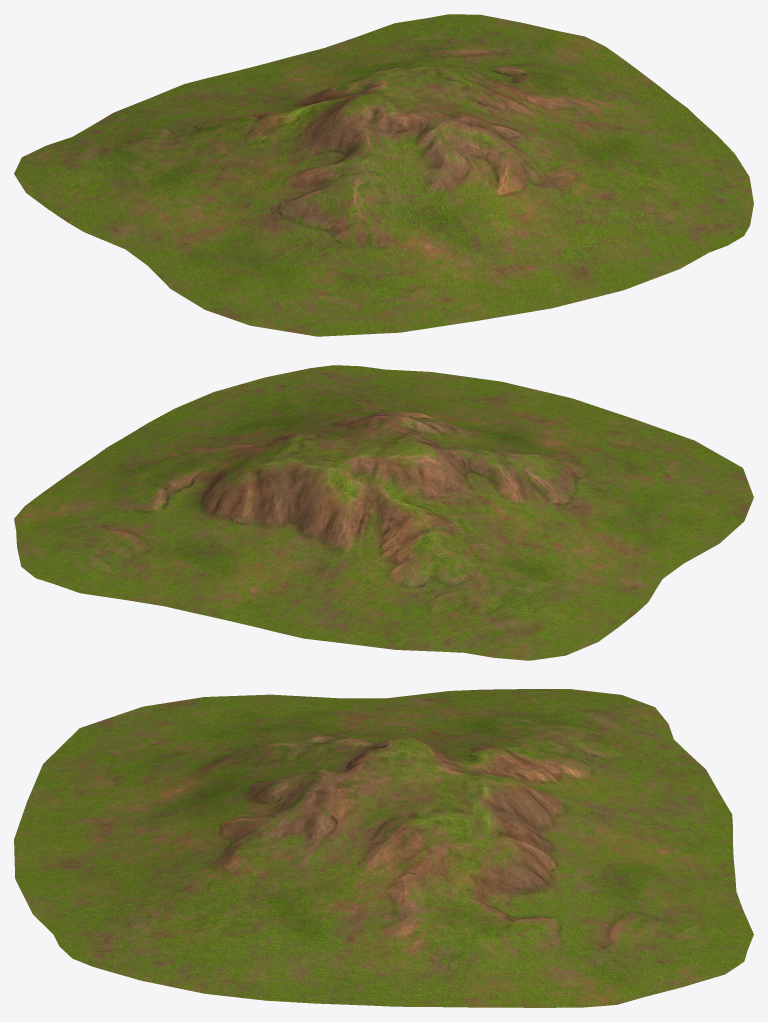
Rendered from EP1_terrain01d.fbx.
The picture shows the model from 3 angles, top to bottom: view 1: azimuth 30°, elevation 25°; view 2: azimuth 150°, elevation 25°; view 3: azimuth 270°, elevation 25°; orthographic projection. The views are drawn at different scales.
Parts seen in each view (by area): view 1: Terrain01d; view 2: Terrain01d; view 3: Terrain01d.
Part boxes in pixels (x1,y1,x2,y2): Terrain01d: (14, 14, 753, 336); Terrain01d: (14, 365, 753, 660); Terrain01d: (14, 689, 753, 1007).
Bounding box in the file's own units: 21.86 × 2.91 × 21.44.
